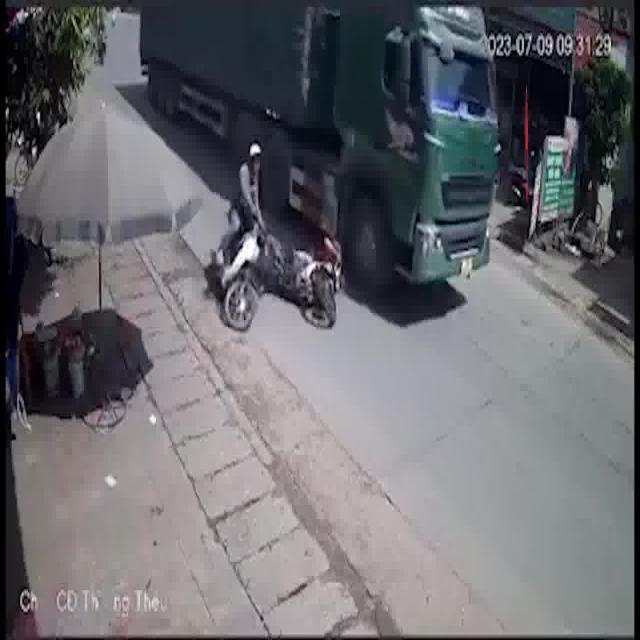multiple_accident: (200, 62, 431, 344)
